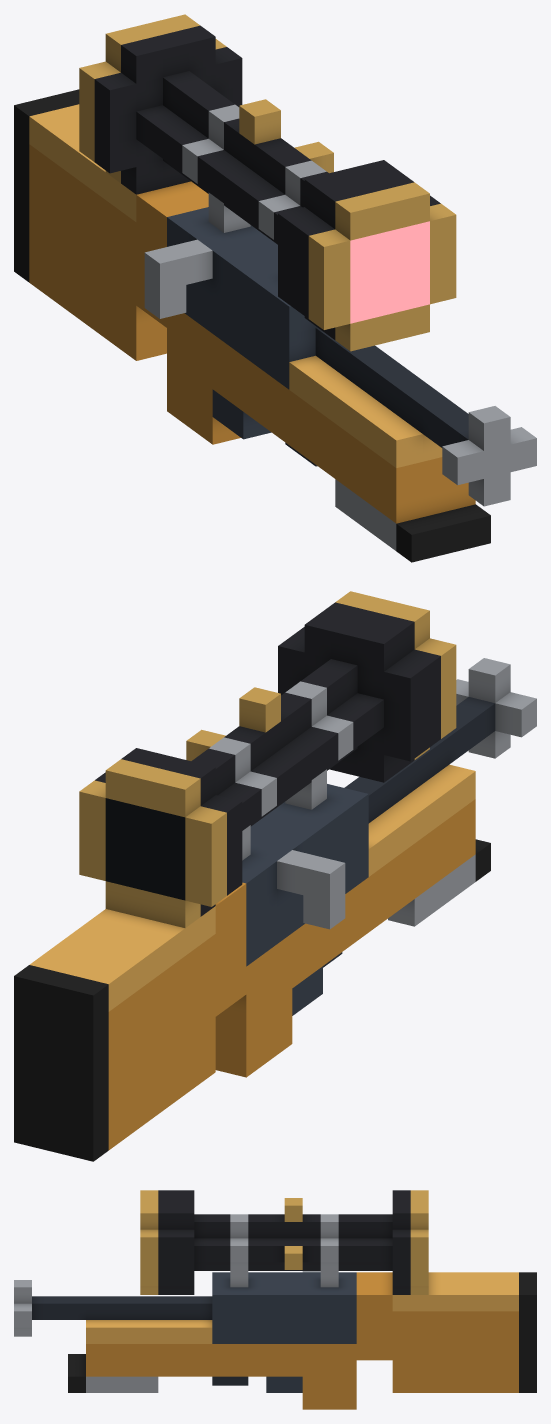
The model's file is sniper.glb.
3 renders of one model, top to bottom at view 1: azimuth 30°, elevation 25°; view 2: azimuth 150°, elevation 25°; view 3: azimuth 270°, elevation 25°, orthographic. The views are drawn at different scales.
Visible parts, largest first — view 1: sniper_body; view 2: sniper_body; view 3: sniper_body.
Boxes of the visible parts, x1,y1,x2,y2 form: sniper_body: (14, 14, 536, 562); sniper_body: (14, 591, 536, 1161); sniper_body: (14, 1190, 536, 1409).
Size of the model in its own units: 0.4688 by 0.9375 by 2.27.
1 material, 1 textured.
